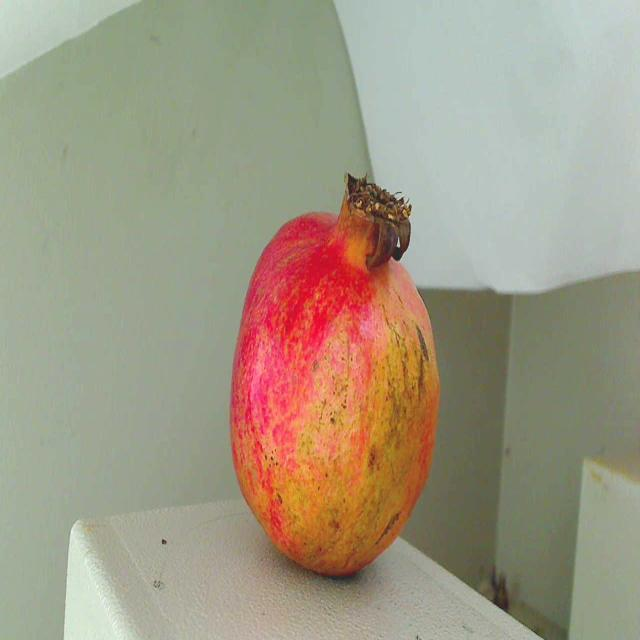pomegranate: (227, 153, 442, 596)
